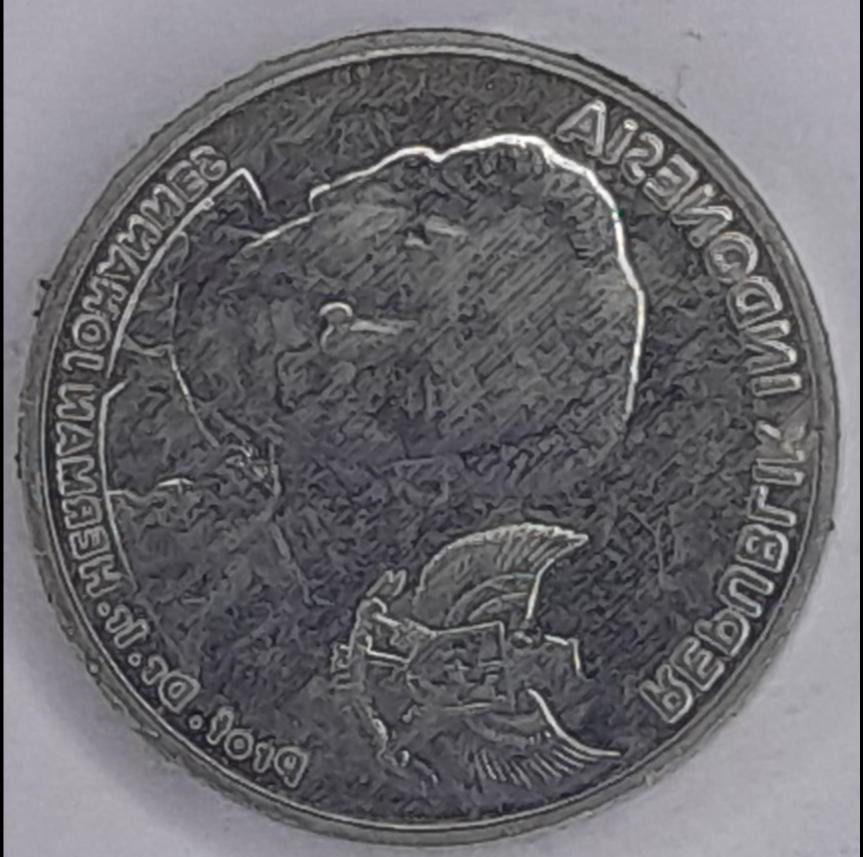coin_100_e2016: (10, 22, 845, 849)
